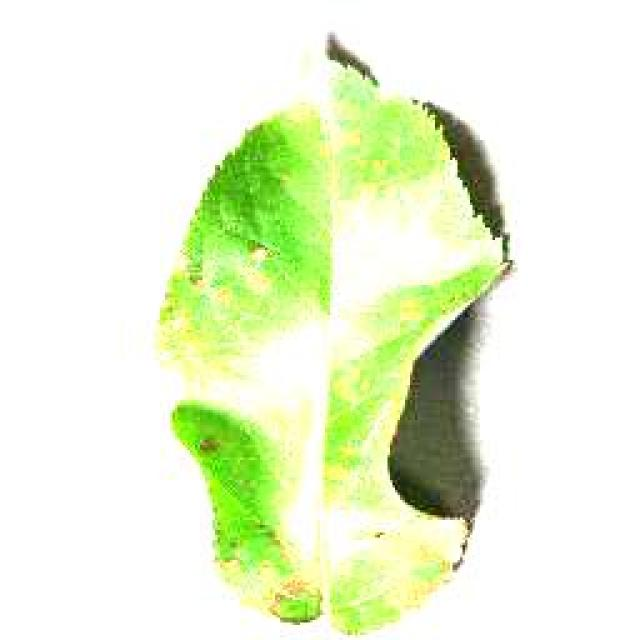apple cedar apple rust: (153, 30, 515, 635)
